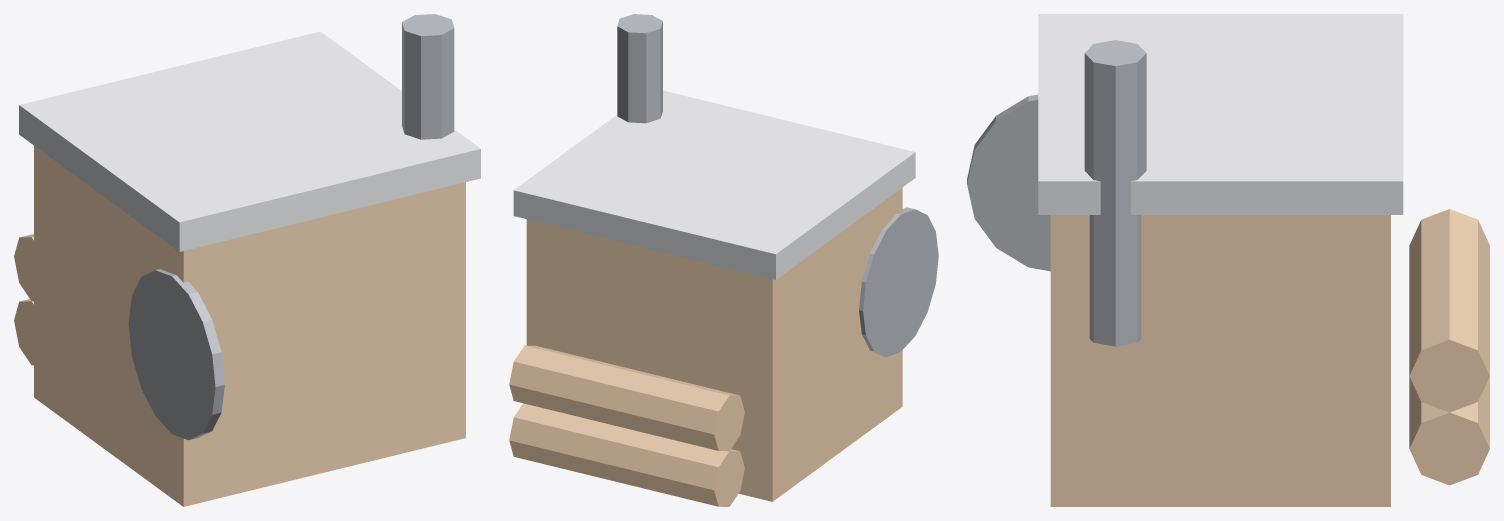
File: sawmill.glb
3 views of the same model, side by side, from view 1: azimuth 30°, elevation 25°; view 2: azimuth 150°, elevation 25°; view 3: azimuth 270°, elevation 25° (orthographic). The views are drawn at different scales.
Visible parts, largest first — view 1: sawmill; view 2: sawmill; view 3: sawmill.
Part boxes in pixels (<box>): sawmill: <box>14,14,480,506</box>; sawmill: <box>509,14,938,506</box>; sawmill: <box>967,14,1489,506</box>.
Bounding box in the file's own units: 0.65 × 0.8 × 0.845.
